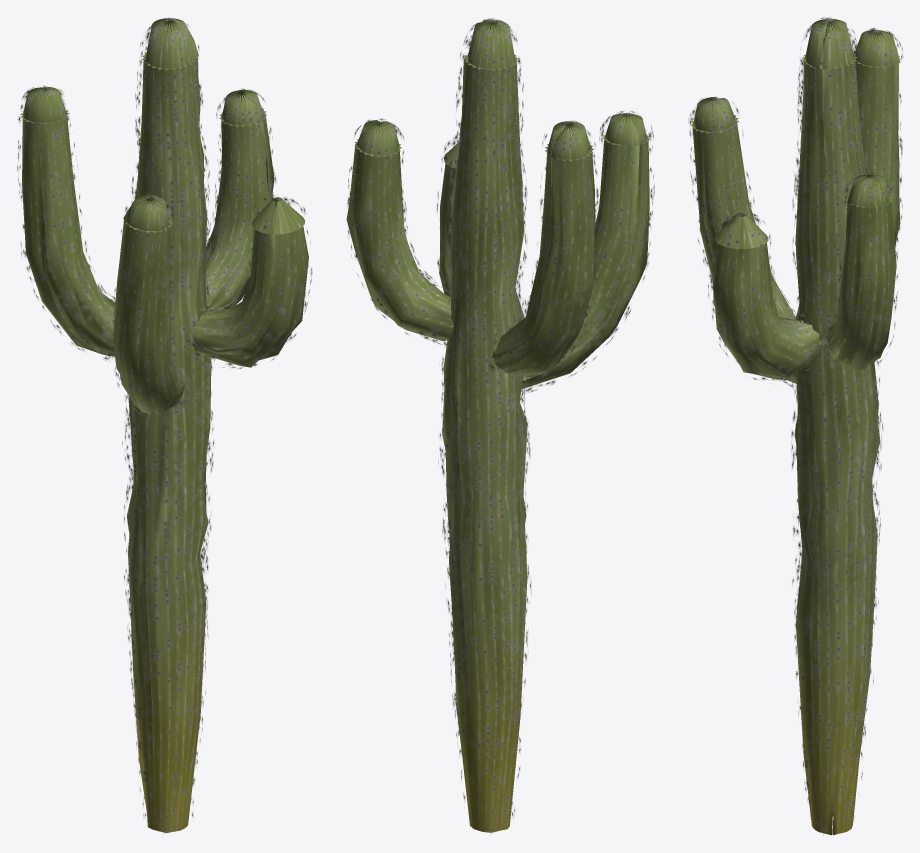
The model's file is cactus_0.glb.
3 views of the same model, side by side, from view 1: azimuth 30°, elevation 25°; view 2: azimuth 150°, elevation 25°; view 3: azimuth 270°, elevation 25° (orthographic).
Parts seen in each view (by area): view 1: cactus_0; view 2: cactus_0; view 3: cactus_0.
Boxes of the visible parts, left/top/right/bottom form: cactus_0: left=17, top=17, right=312, bottom=834; cactus_0: left=346, top=18, right=654, bottom=834; cactus_0: left=688, top=17, right=903, bottom=835.
Bounding box in the file's own units: 2.28 × 6.97 × 1.71.
Materials: 3 (3 with a texture image).
